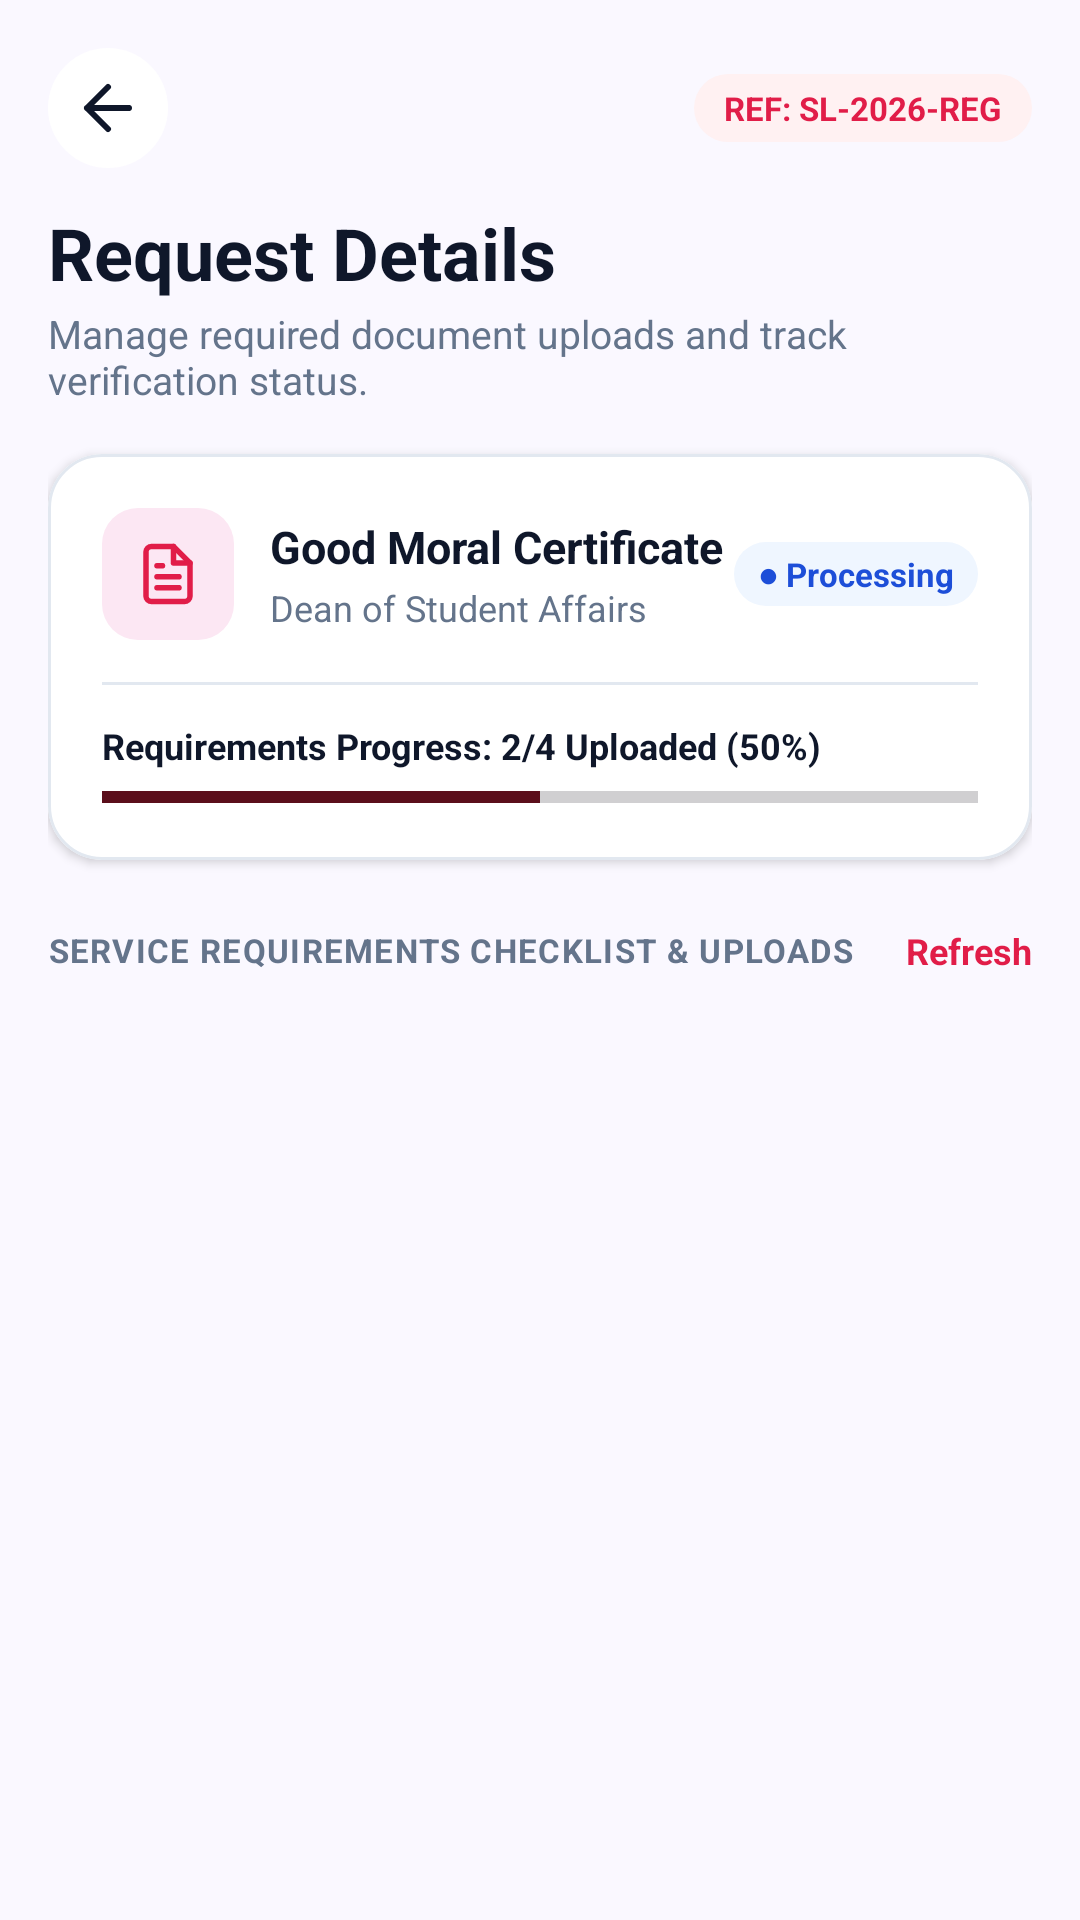

Screen size 1080 × 1920. Icon name, then its center in pixels as [x,y]:
arrow back: [108,108]
